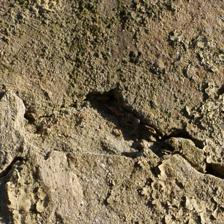Crack: (18, 41, 206, 142)
